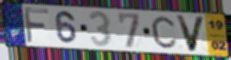3: (88, 10, 115, 48)
6: (55, 10, 79, 45)
7: (116, 11, 142, 50)
C: (150, 15, 178, 50)
F: (22, 6, 51, 45)
V: (173, 14, 207, 53)
